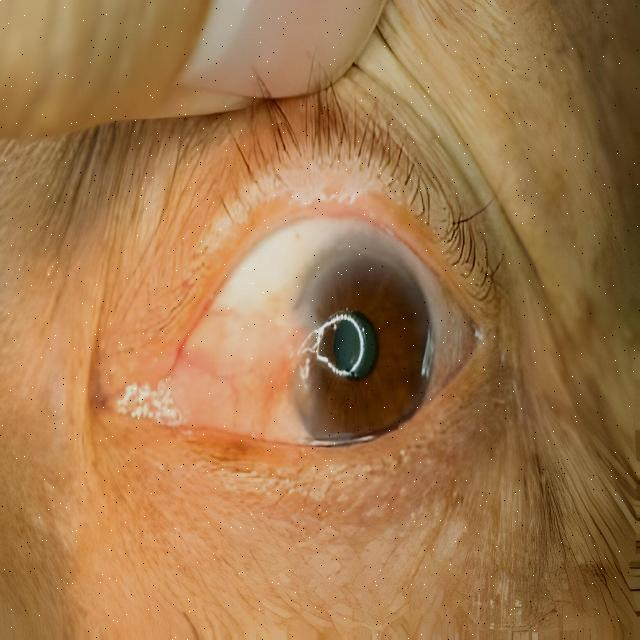Pterygium: (148, 260, 338, 440)
